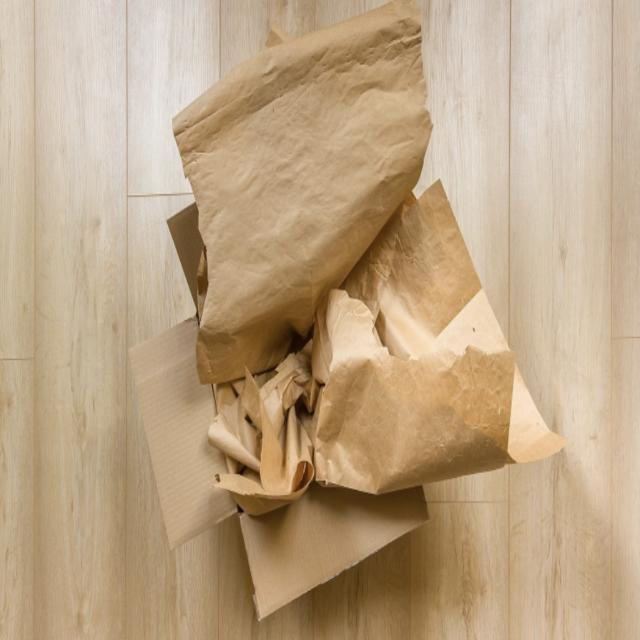biodegradable: (119, 1, 572, 624)
